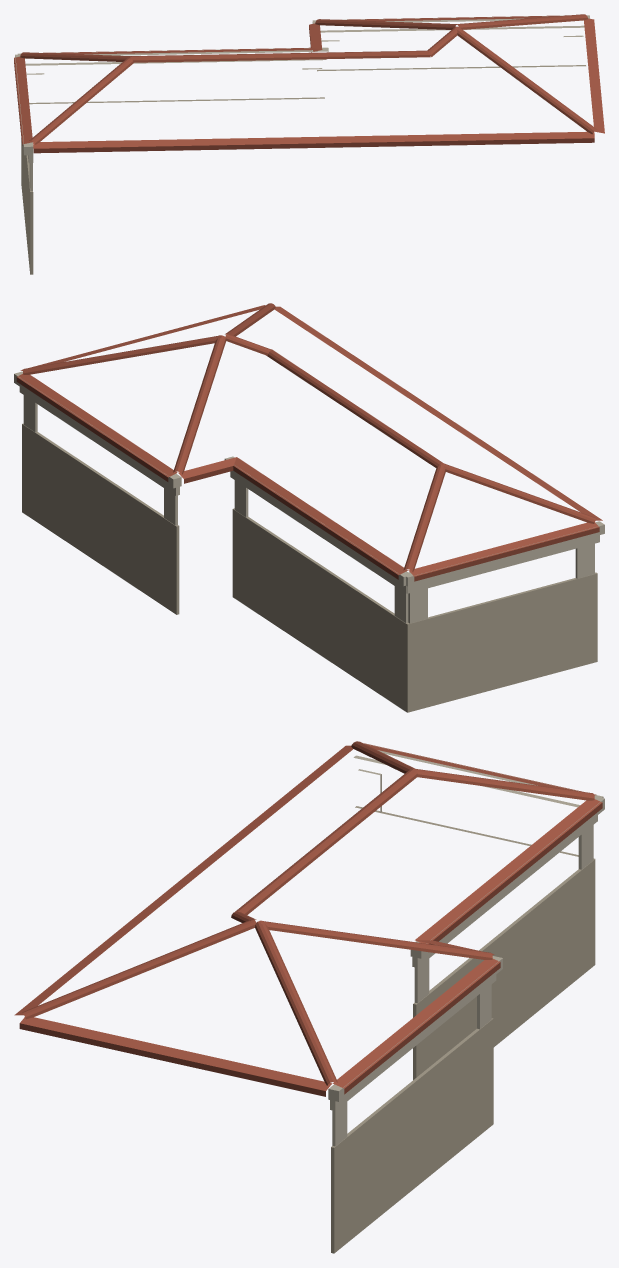
3 renders of one model, top to bottom at view 1: azimuth 30°, elevation 25°; view 2: azimuth 150°, elevation 25°; view 3: azimuth 270°, elevation 25°, orthographic. The views are drawn at different scales.
Visible parts, largest first — view 1: detail; view 2: detail; view 3: detail.
Part boxes in pixels (<box>): detail: <box>14,14,604,274</box>; detail: <box>14,303,604,712</box>; detail: <box>14,741,604,1253</box>.
Bounding box in the file's own units: 19.44 × 6.07 × 13.9.
